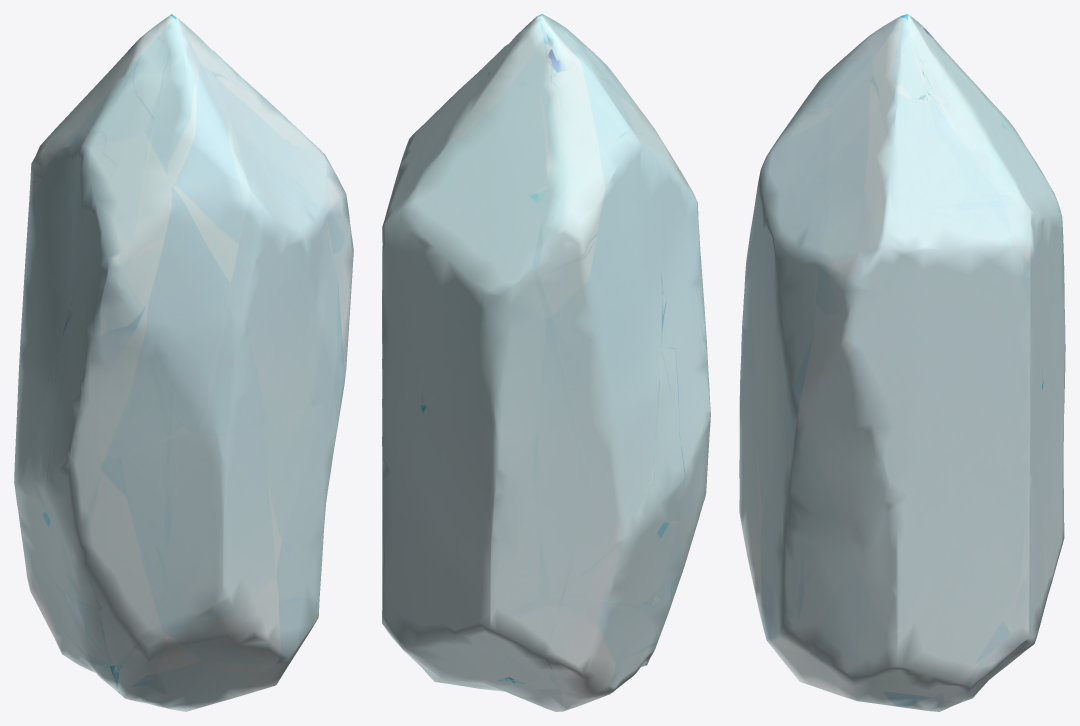
Rendered from 1_Moontear_Crystal_A_0728165550_texture.fbx.
The picture shows the model from 3 angles, left to right: view 1: azimuth 30°, elevation 25°; view 2: azimuth 150°, elevation 25°; view 3: azimuth 270°, elevation 25°; orthographic projection.
Parts seen in each view (by area): view 1: input; view 2: input; view 3: input.
Part boxes in pixels (bbox=[...]): input: bbox=[14, 14, 353, 711]; input: bbox=[382, 14, 710, 711]; input: bbox=[739, 14, 1065, 711].
Bounding box in the file's own units: 89.14 × 201 × 87.83.
1 material, 1 textured.
